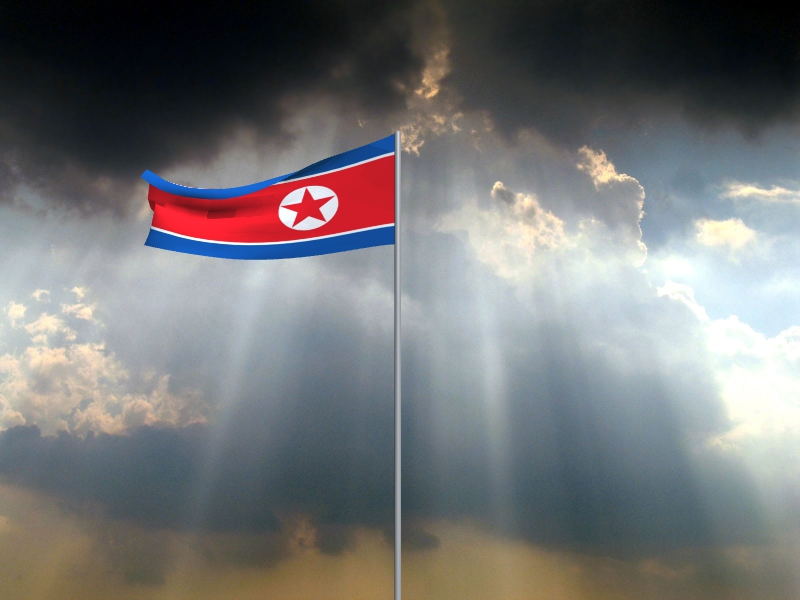kp: (140, 134, 395, 262)
